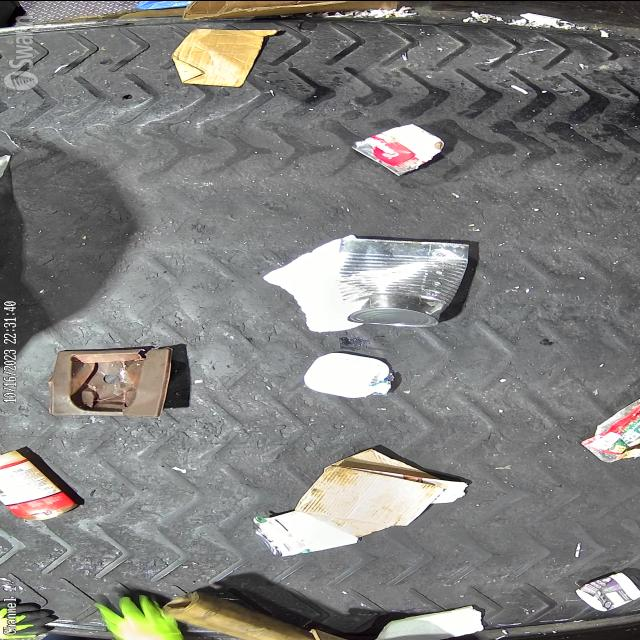can: (336, 236, 471, 326), (250, 509, 358, 556), (350, 122, 444, 175)
